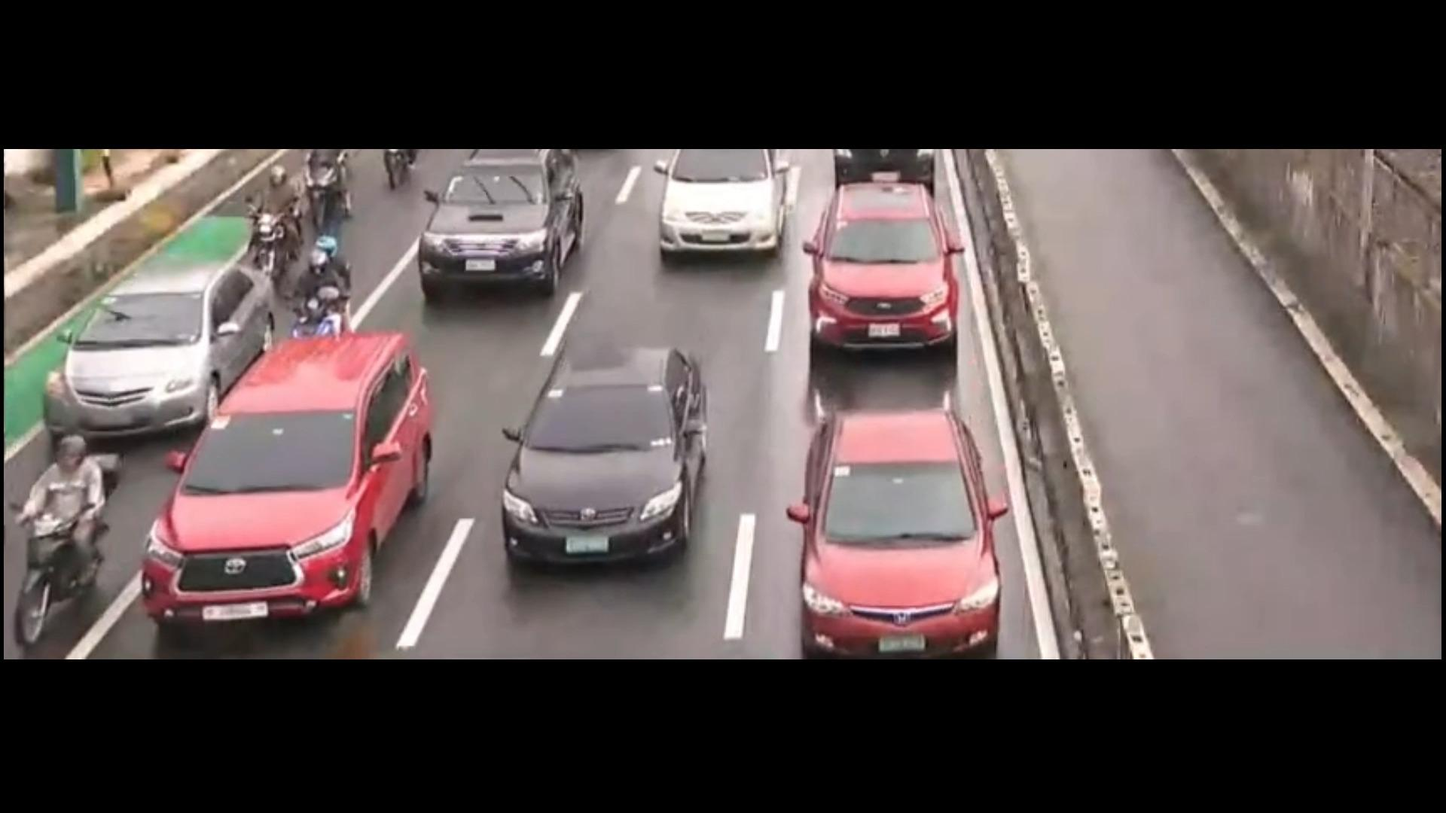Motorcycle: (1, 409, 130, 649), (296, 219, 383, 355), (234, 160, 301, 276), (301, 143, 360, 226)
SUV: (149, 324, 452, 627), (790, 158, 968, 368), (405, 142, 588, 318), (649, 142, 787, 267)
Sedan: (459, 328, 727, 598), (790, 392, 1016, 648), (19, 247, 283, 455)
